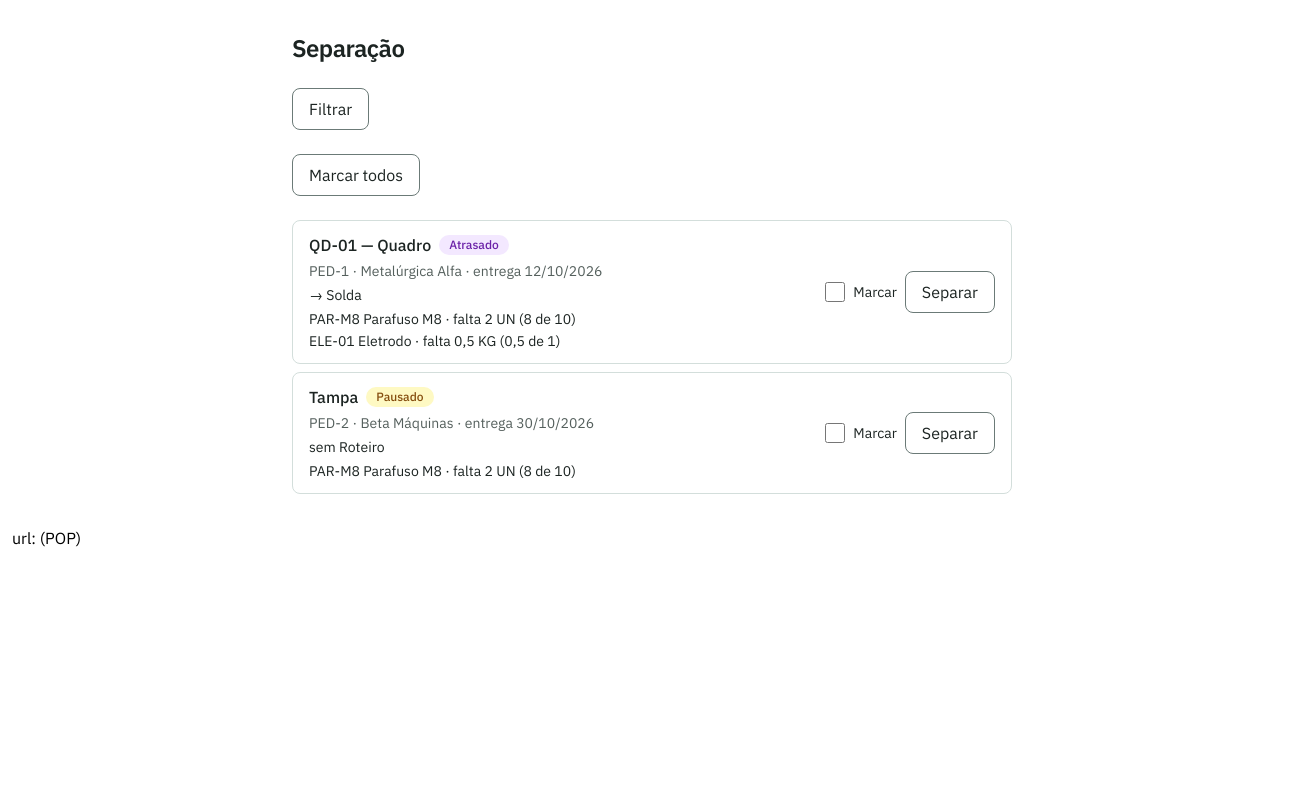
it: SeparacaoPage › depois de registrar, a lista recarrega e o foco volta ao Separar do cartão, ou ao título se o cartão sumiu
Click the button with aria-label "Separar QD-01 — Quadro (PED-1)" at (950, 292), box [905,271,995,313]
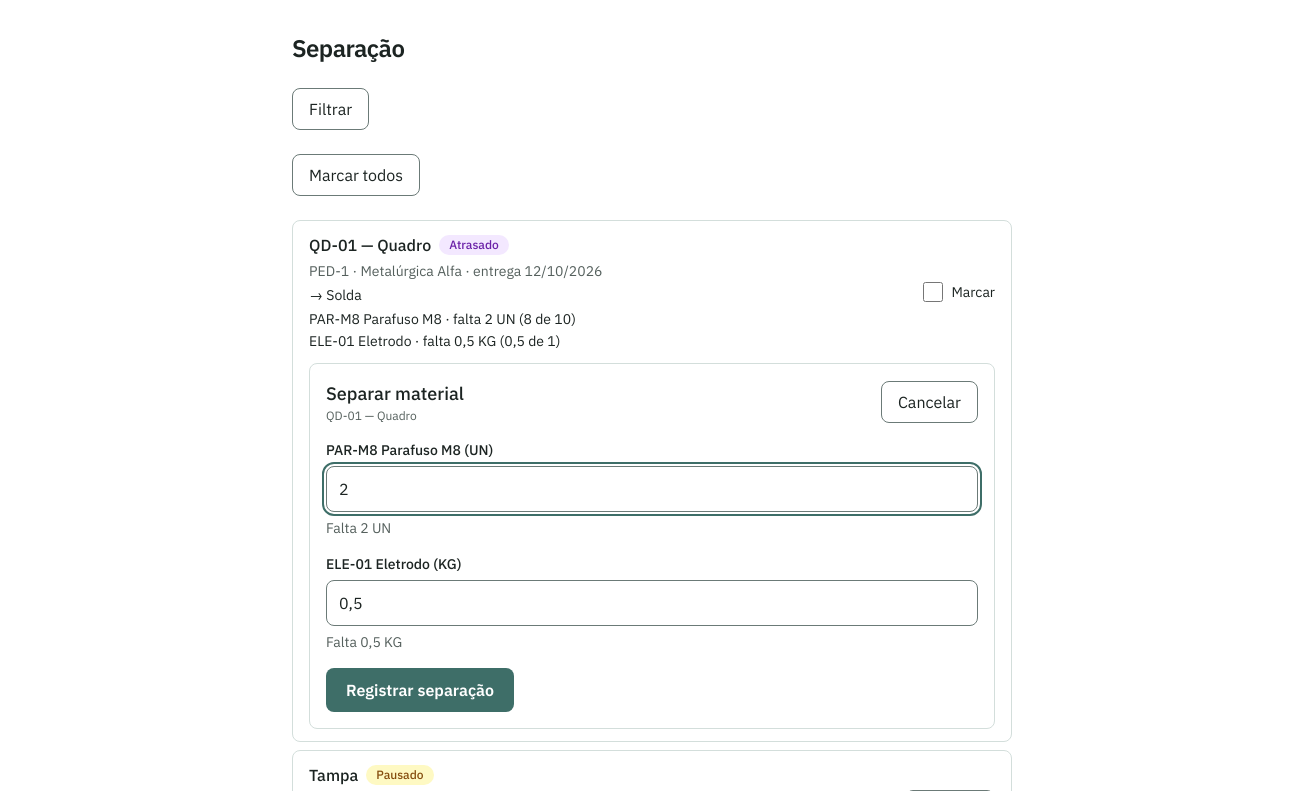
Clear the field labelled "ELE-01 Eletrodo (KG)" at (652, 603), box [326,580,978,626]
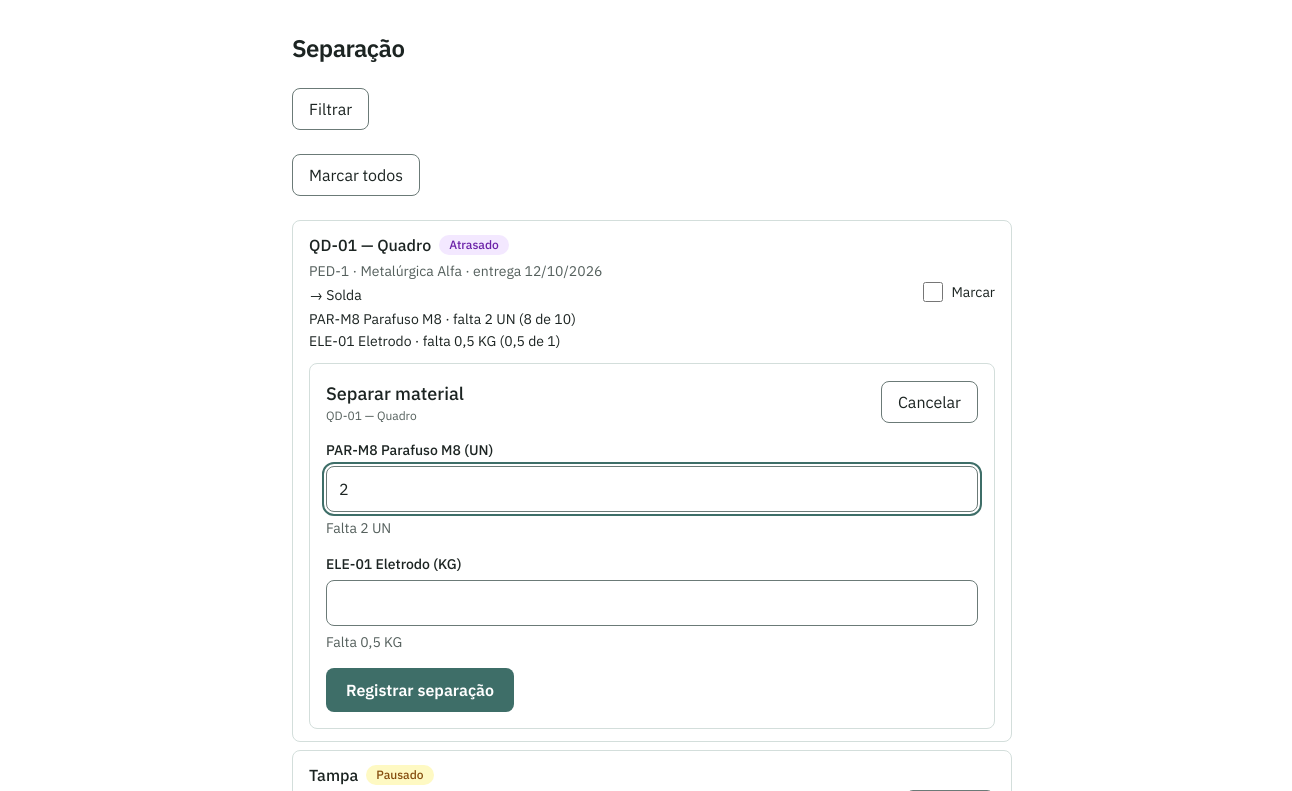
Click the button "Registrar separação" at (420, 690), box [326,668,514,712]
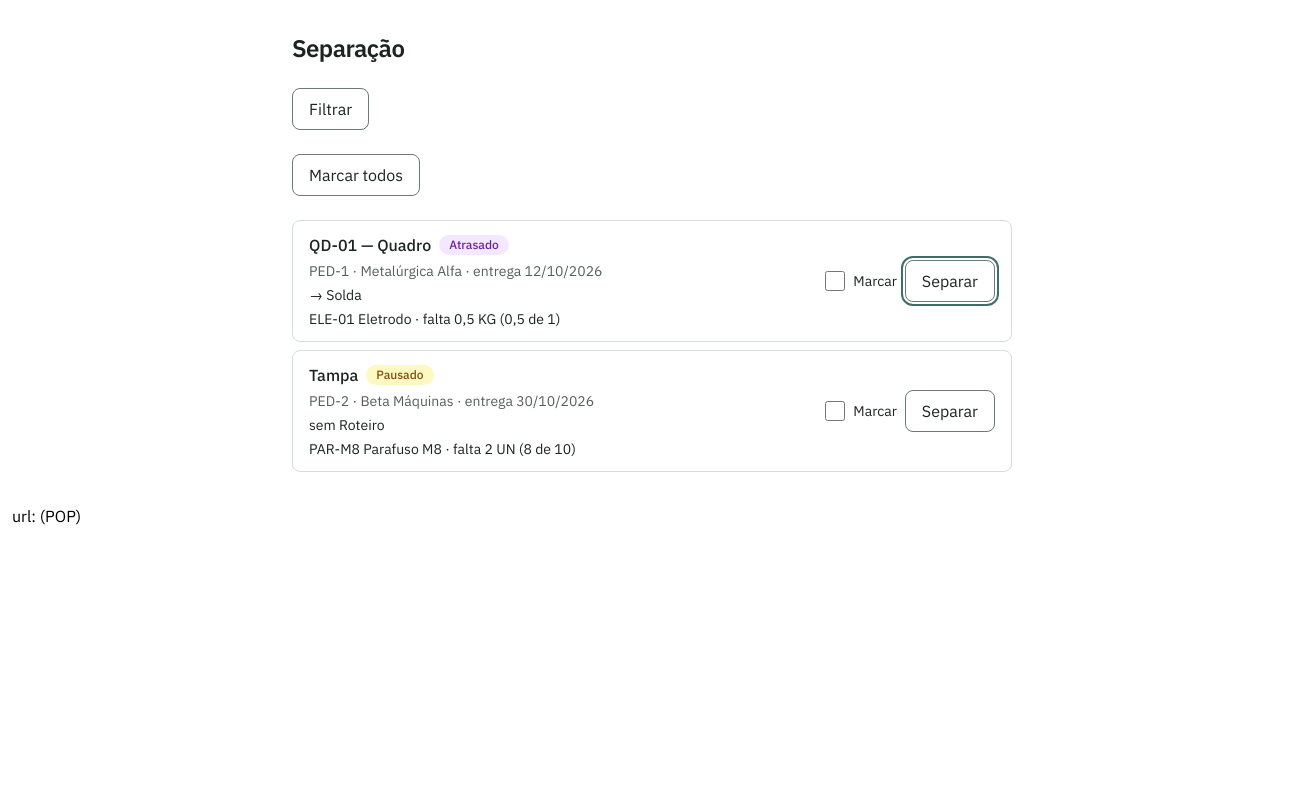
Now the heading "Separar material" is gone
Now the list items read "ELE-01 Eletrodo · falta 0,5 KG (0,5 de 1)", in this order, box [309,309,602,329]
Click the button with aria-label "Separar QD-01 — Quadro (PED-1)" at (950, 281), box [905,260,995,302]
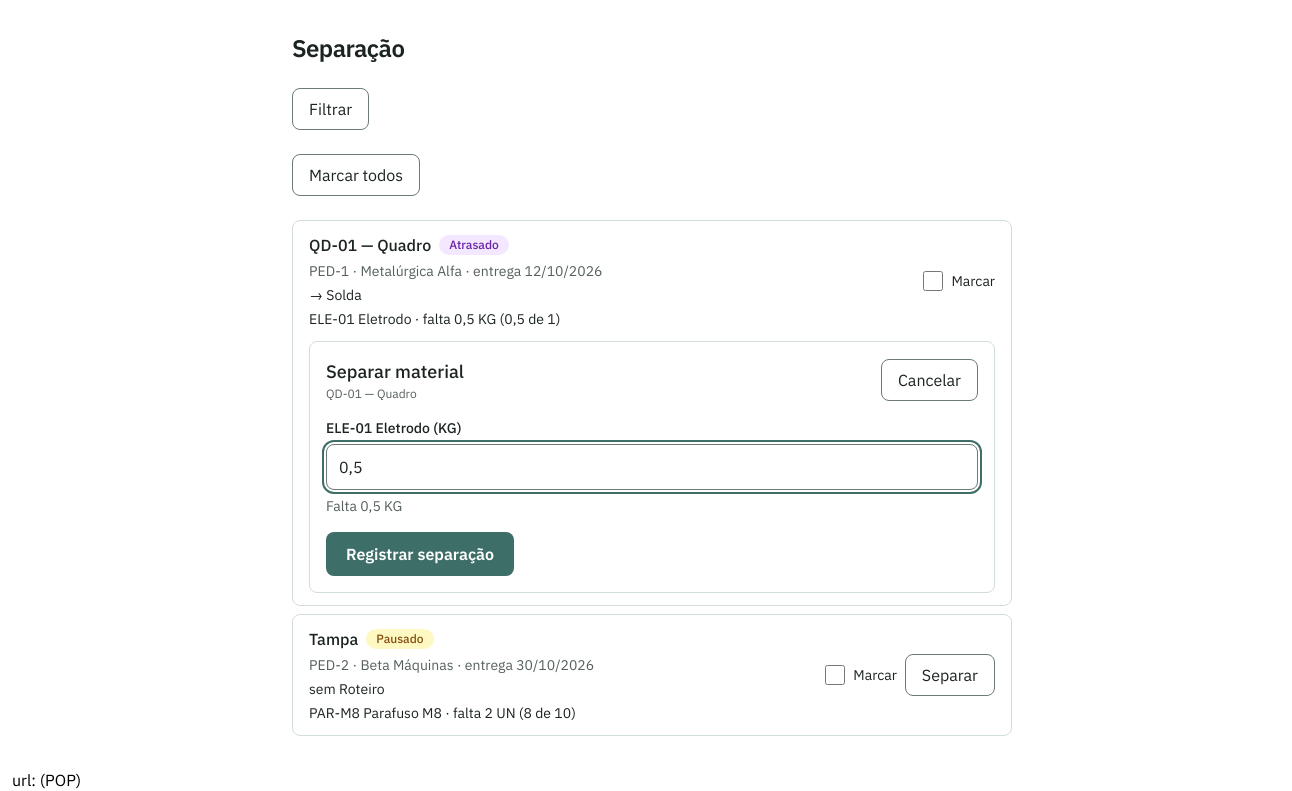
Click the button "Registrar separação" at (420, 554), box [326,532,514,576]
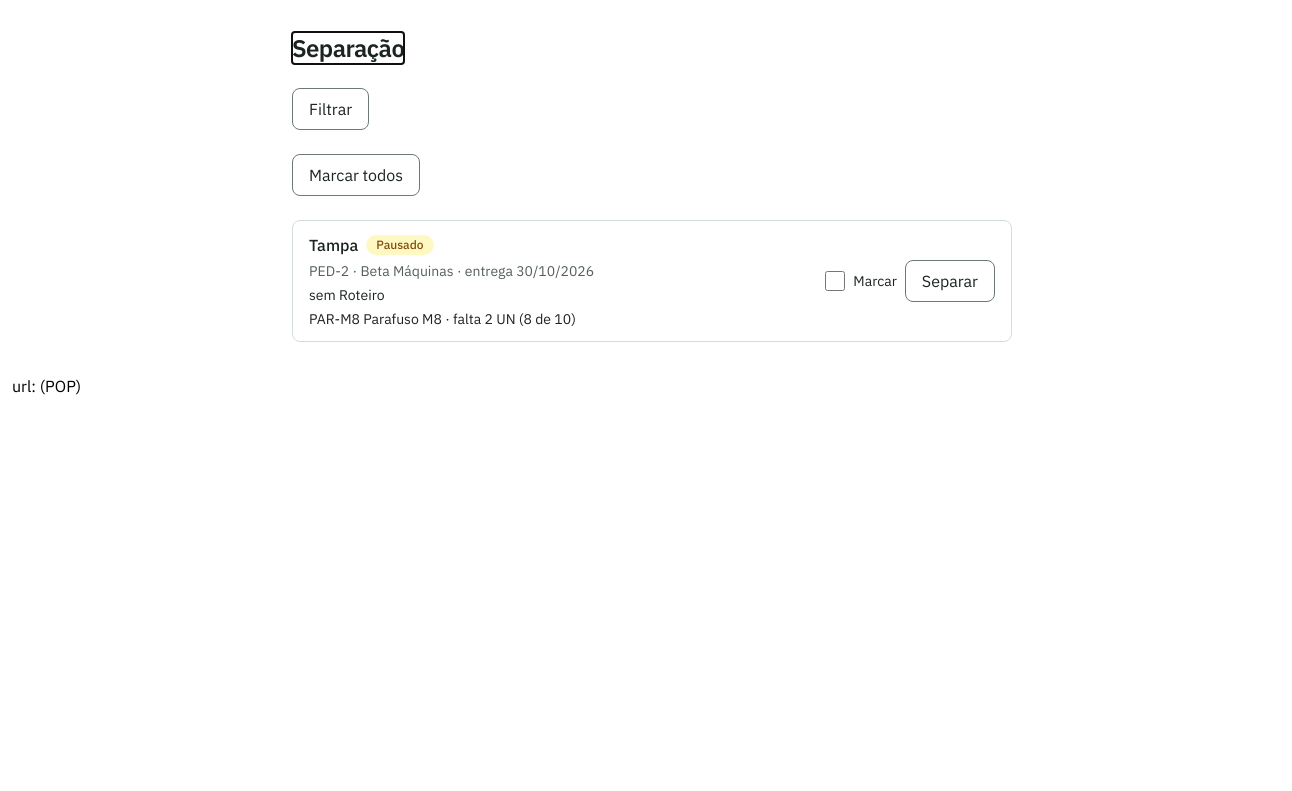
Now the heading "Separar material" is gone
Now the text "QD-01 — Quadro" is gone
